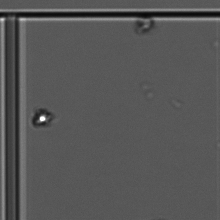Dead Cell: (137, 15, 158, 40)
Living Cell: (28, 102, 51, 131)
